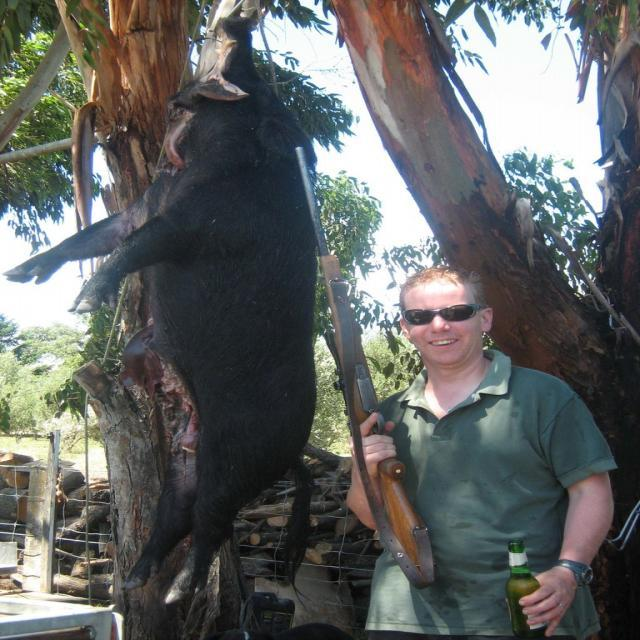weapon: (289, 144, 433, 586)
